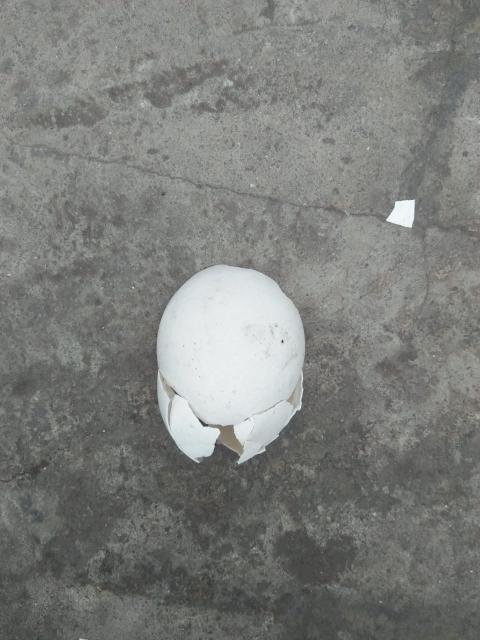Roto: (154, 263, 306, 465)
